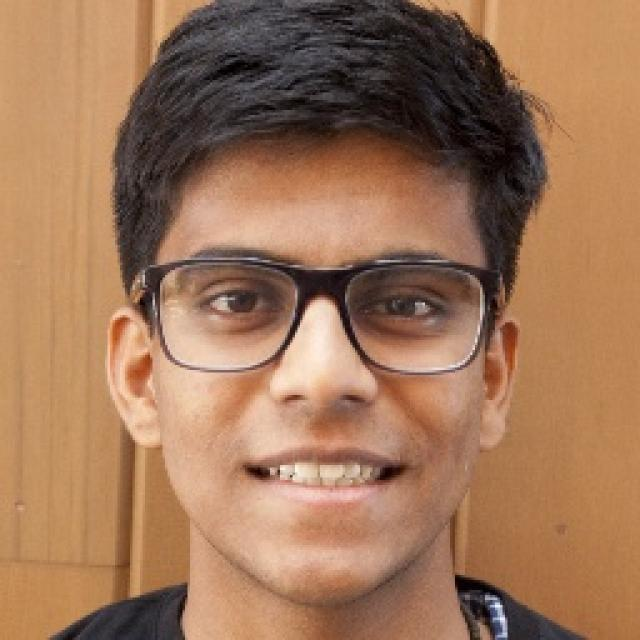earlobe: (125, 415, 168, 449), (478, 421, 510, 455)
eye: (363, 290, 446, 328), (206, 285, 283, 325)
nose: (273, 390, 376, 433)
wholeear: (108, 311, 167, 446), (480, 321, 520, 449)
